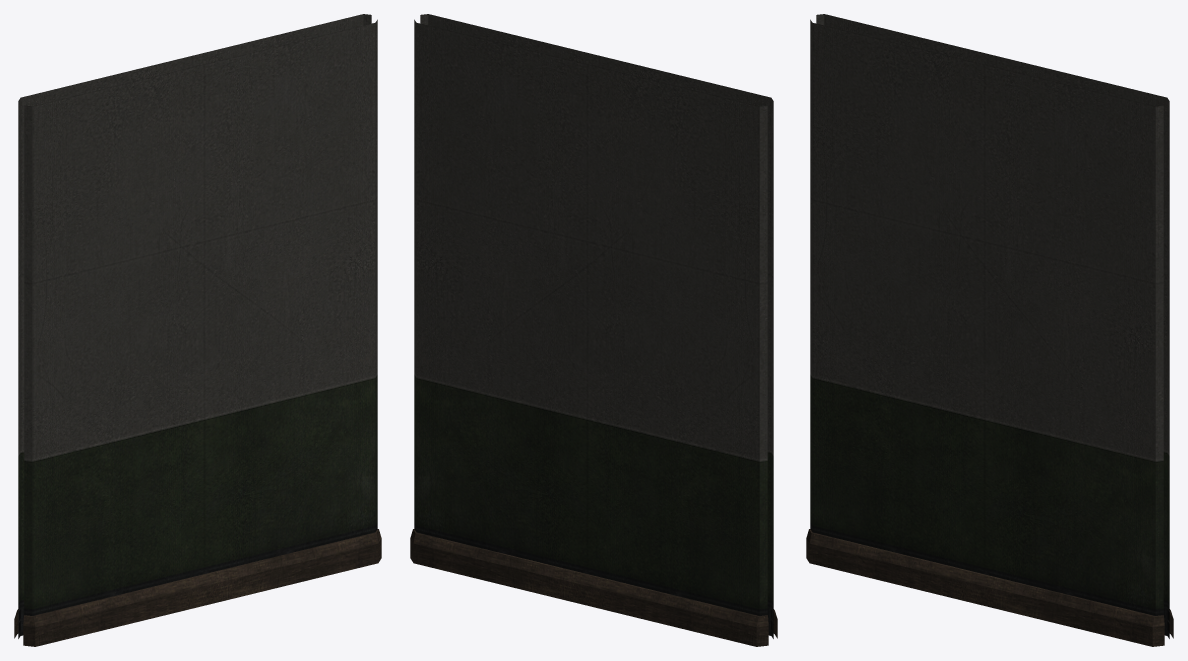
Rendered from wall_1_1_half.obj.
The picture shows the model from 3 angles, left to right: view 1: azimuth 30°, elevation 25°; view 2: azimuth 150°, elevation 25°; view 3: azimuth 330°, elevation 25°; orthographic projection.
Visible parts, largest first — view 1: wall_1_1_half; view 2: wall_1_1_half; view 3: wall_1_1_half.
Boxes of the visible parts, box(x1,y1,x2,y2) form: wall_1_1_half: box(14, 14, 381, 646); wall_1_1_half: box(410, 14, 777, 646); wall_1_1_half: box(806, 14, 1173, 646).
Size of the model in its own units: 2.09 by 3 by 0.18.
